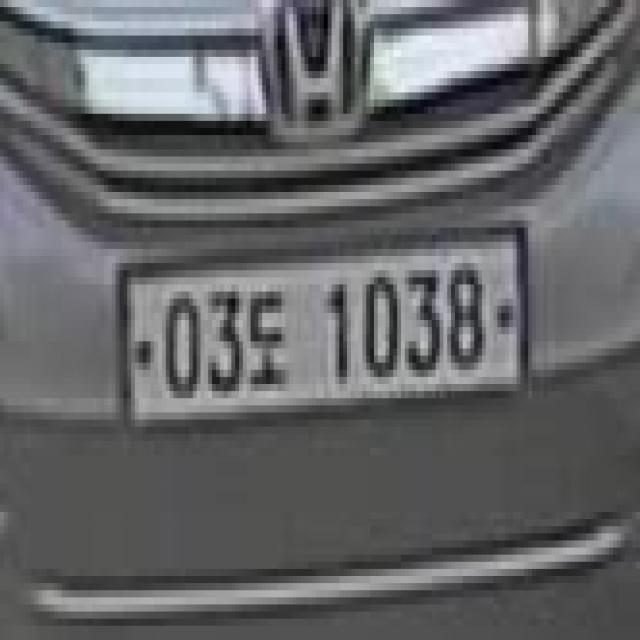illegal_plate: (113, 229, 534, 433)
